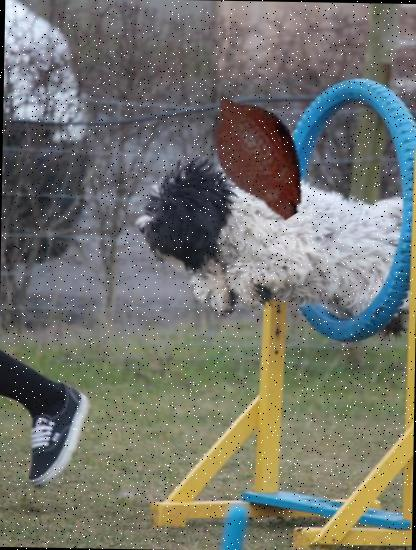Salak: (185, 80, 331, 226)
